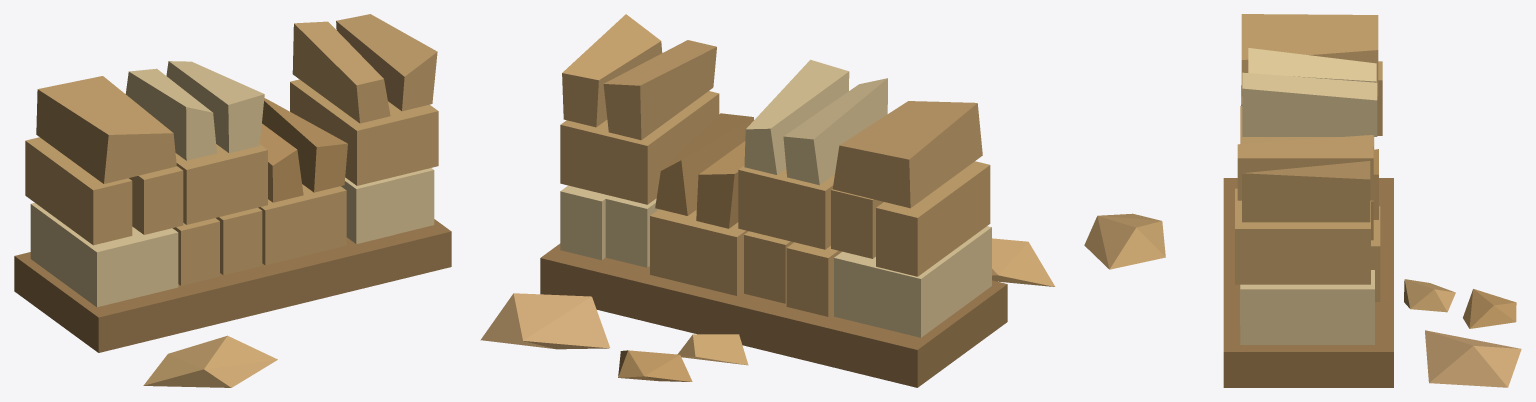
The model's file is desert_ruinwall_a.glb.
3 renders of one model, left to right at view 1: azimuth 30°, elevation 25°; view 2: azimuth 150°, elevation 25°; view 3: azimuth 270°, elevation 25°, orthographic. The views are drawn at different scales.
Parts seen in each view (by area): view 1: desert_ruinwall_a; view 2: desert_ruinwall_a; view 3: desert_ruinwall_a.
Boxes of the visible parts, x1,y1,x2,y2 form: desert_ruinwall_a: [14, 14, 451, 387]; desert_ruinwall_a: [480, 14, 1055, 387]; desert_ruinwall_a: [1084, 14, 1521, 387].
Bounding box in the file's own units: 2.08 × 1.2 × 2.21.
